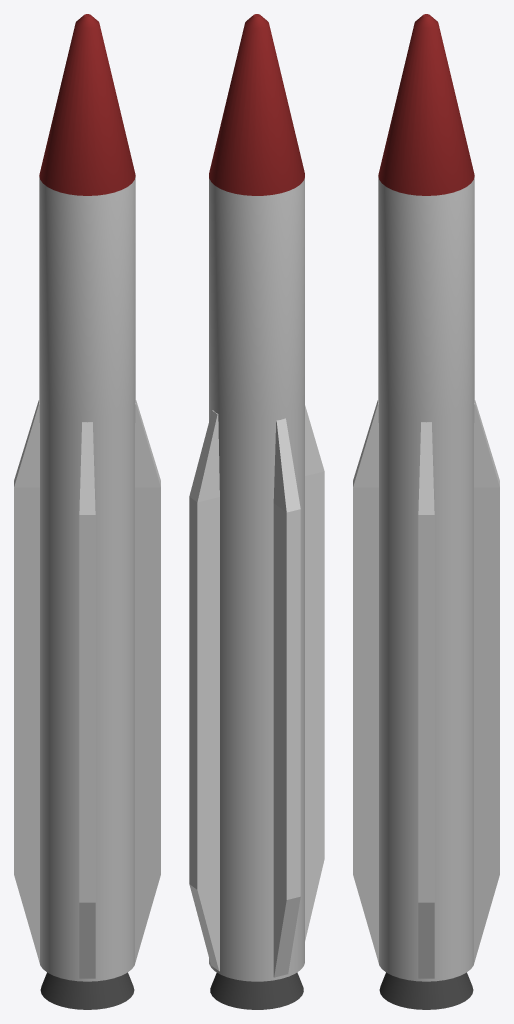
Rendered from missile.fbx.
The picture shows the model from 3 angles, left to right: view 1: azimuth 90°, elevation 25°; view 2: azimuth 210°, elevation 25°; view 3: azimuth 270°, elevation 25°; orthographic projection.
Parts seen in each view (by area): view 1: Body, Fin; view 2: Body, Fin; view 3: Body, Fin.
Part boxes in pixels (left/top/right/bottom): Body: left=39, top=14, right=135, bottom=1009; Fin: left=14, top=400, right=160, bottom=978; Body: left=209, top=14, right=304, bottom=1009; Fin: left=189, top=405, right=324, bottom=977; Body: left=378, top=14, right=474, bottom=1009; Fin: left=353, top=400, right=499, bottom=978.
Bounding box in the file's own units: 86.69 × 635 × 86.69.
